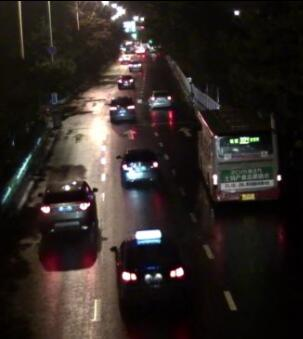bus: (195, 103, 281, 208)
car: (111, 230, 191, 307), (37, 180, 98, 231), (115, 144, 167, 184), (104, 94, 136, 121), (149, 87, 170, 107), (115, 75, 135, 89), (126, 56, 142, 72), (118, 50, 133, 63)
